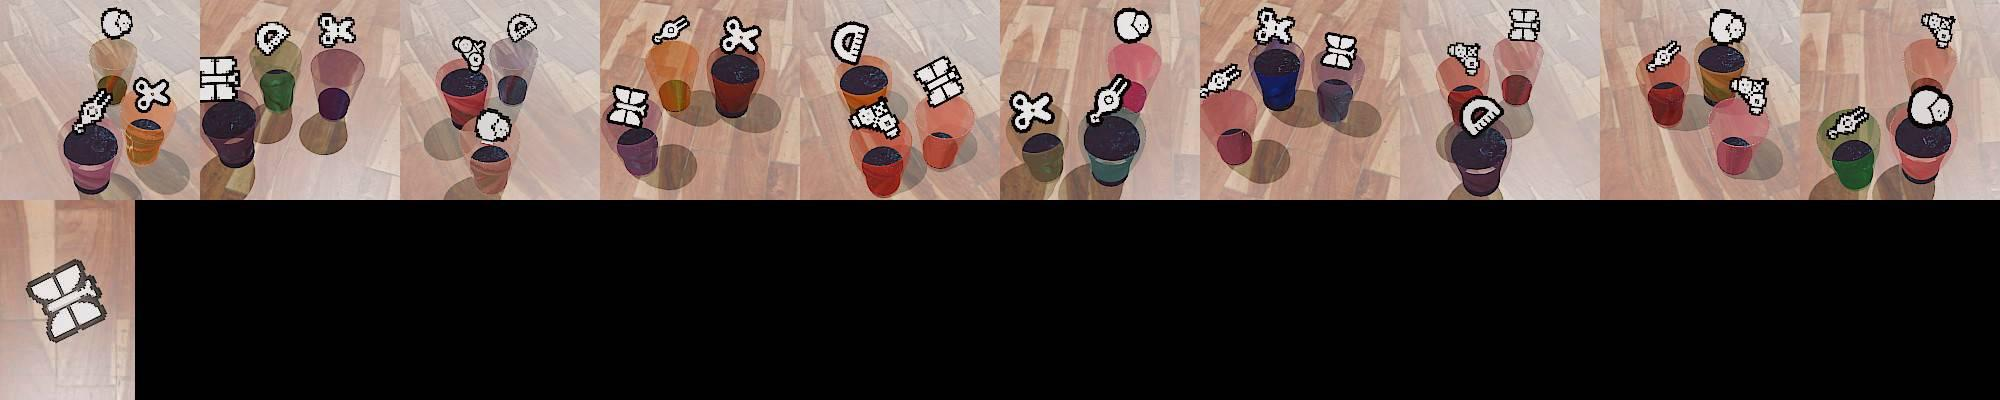icon: (24, 259, 108, 344), (912, 55, 966, 110), (1087, 74, 1133, 126), (1458, 93, 1506, 140), (848, 98, 902, 140), (198, 56, 241, 102), (606, 84, 651, 127), (1907, 85, 1954, 126), (830, 20, 870, 69), (1009, 89, 1052, 132), (718, 17, 763, 56), (1728, 74, 1769, 116), (1255, 6, 1296, 46), (1708, 8, 1747, 47), (1114, 6, 1153, 45), (1320, 31, 1357, 70), (133, 76, 172, 113), (77, 89, 112, 130), (1202, 62, 1241, 98), (316, 13, 357, 47), (1828, 104, 1870, 138), (1920, 11, 1957, 48), (254, 20, 291, 56), (474, 108, 513, 143), (452, 36, 487, 71), (652, 14, 691, 46), (1446, 41, 1482, 75), (1647, 38, 1681, 73), (1506, 8, 1541, 42), (101, 6, 134, 39), (506, 13, 540, 43)
